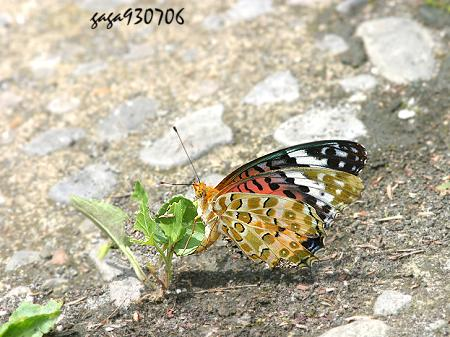Argyreus hyperbius: (154, 121, 373, 269)
butterfly: (156, 123, 375, 271)
